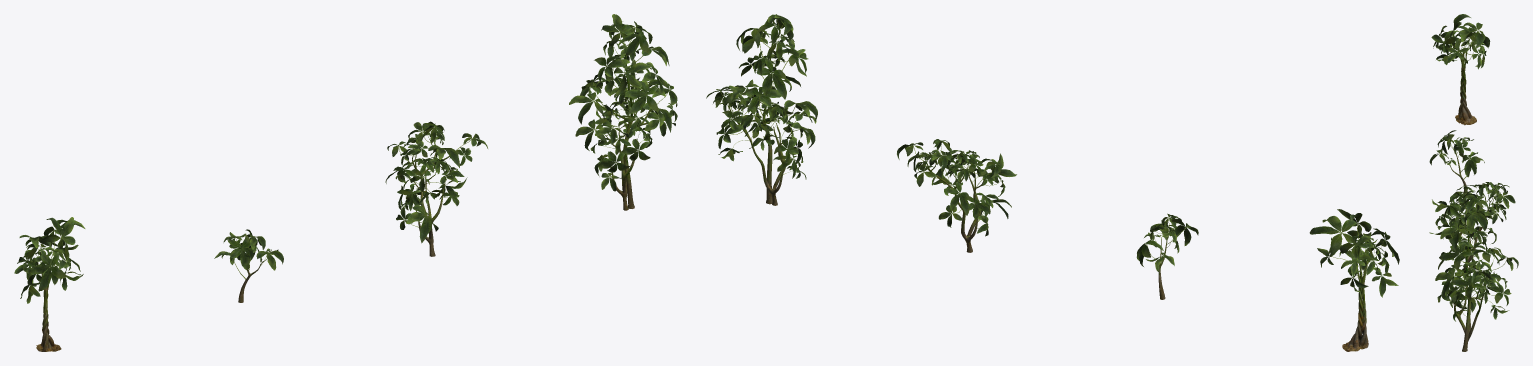
File: pachira_aquatica_01.glb
3 views of the same model, side by side, from view 1: azimuth 30°, elevation 25°; view 2: azimuth 150°, elevation 25°; view 3: azimuth 270°, elevation 25° (orthographic). The views are drawn at different scales.
Visible parts, largest first — view 1: pachira_aquatica_01_leaves_d, pachira_aquatica_01_leaves_c, pachira_aquatica_01_leaves_a, pachira_aquatica_01_leaves_b, pachira_aquatica_01_bark_d, pachira_aquatica_01_bark_c, pachira_aquatica_01_bark_a; view 2: pachira_aquatica_01_leaves_d, pachira_aquatica_01_leaves_c, pachira_aquatica_01_leaves_a, pachira_aquatica_01_leaves_b, pachira_aquatica_01_bark_d, pachira_aquatica_01_bark_a, pachira_aquatica_01_bark_c; view 3: pachira_aquatica_01_leaves_d, pachira_aquatica_01_leaves_c, pachira_aquatica_01_leaves_a, pachira_aquatica_01_leaves_b, pachira_aquatica_01_bark_d, pachira_aquatica_01_bark_a, pachira_aquatica_01_bark_c, pachira_aquatica_01_bark_b.
Part boxes in pixels (<box>): pachira_aquatica_01_leaves_d: <box>569,14,677,191</box>; pachira_aquatica_01_leaves_c: <box>385,121,487,243</box>; pachira_aquatica_01_leaves_a: <box>14,217,85,303</box>; pachira_aquatica_01_leaves_b: <box>214,229,283,279</box>; pachira_aquatica_01_bark_d: <box>595,44,652,210</box>; pachira_aquatica_01_bark_c: <box>409,137,457,256</box>; pachira_aquatica_01_bark_a: <box>36,265,61,351</box>; pachira_aquatica_01_leaves_d: <box>706,14,817,179</box>; pachira_aquatica_01_leaves_c: <box>897,139,1016,236</box>; pachira_aquatica_01_leaves_a: <box>1309,209,1399,297</box>; pachira_aquatica_01_leaves_b: <box>1136,213,1198,274</box>; pachira_aquatica_01_bark_d: <box>728,43,792,205</box>; pachira_aquatica_01_bark_a: <box>1342,259,1368,351</box>; pachira_aquatica_01_bark_c: <box>923,159,985,252</box>; pachira_aquatica_01_leaves_d: <box>1429,190,1518,321</box>; pachira_aquatica_01_leaves_c: <box>1432,182,1515,244</box>; pachira_aquatica_01_leaves_a: <box>1431,14,1490,69</box>; pachira_aquatica_01_leaves_b: <box>1429,130,1484,179</box>; pachira_aquatica_01_bark_d: <box>1454,219,1492,351</box>; pachira_aquatica_01_bark_a: <box>1455,50,1476,125</box>; pachira_aquatica_01_bark_c: <box>1453,194,1497,268</box>; pachira_aquatica_01_bark_b: <box>1447,149,1467,195</box>.
Size of the model in its own units: 6.87 by 1.9 by 0.997.
Materials: 2 (2 with a texture image).
